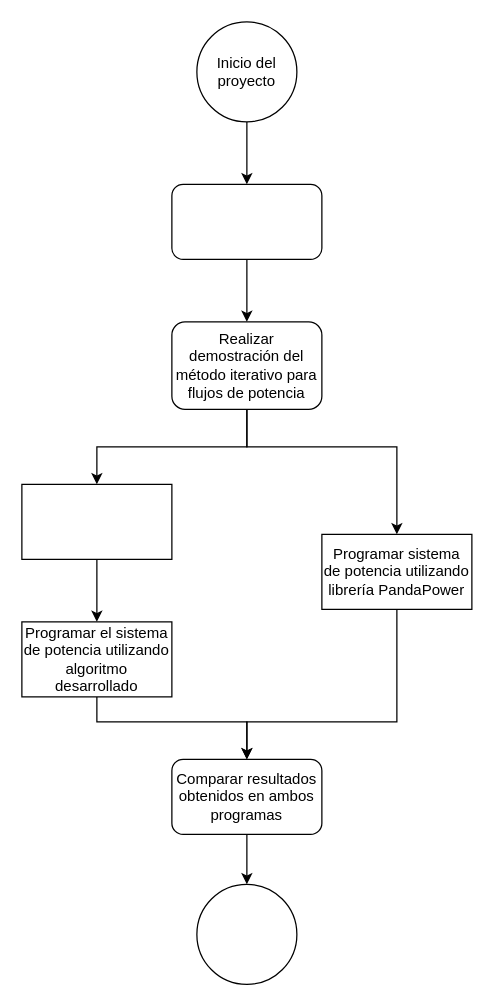
Image size: 494x1006. Some labels were removed from this diagram. The centre of each missing label's shape, as x and y in pixels:
"fin del proyecto" belongs at (x=246, y=933).
"Interiorizar como funciona método iterativo Newton-Raphson" belongs at (x=246, y=221).
"Realizar diagrama de flujo del algoritmo N-R a desarrollar" belongs at (x=96, y=521).
